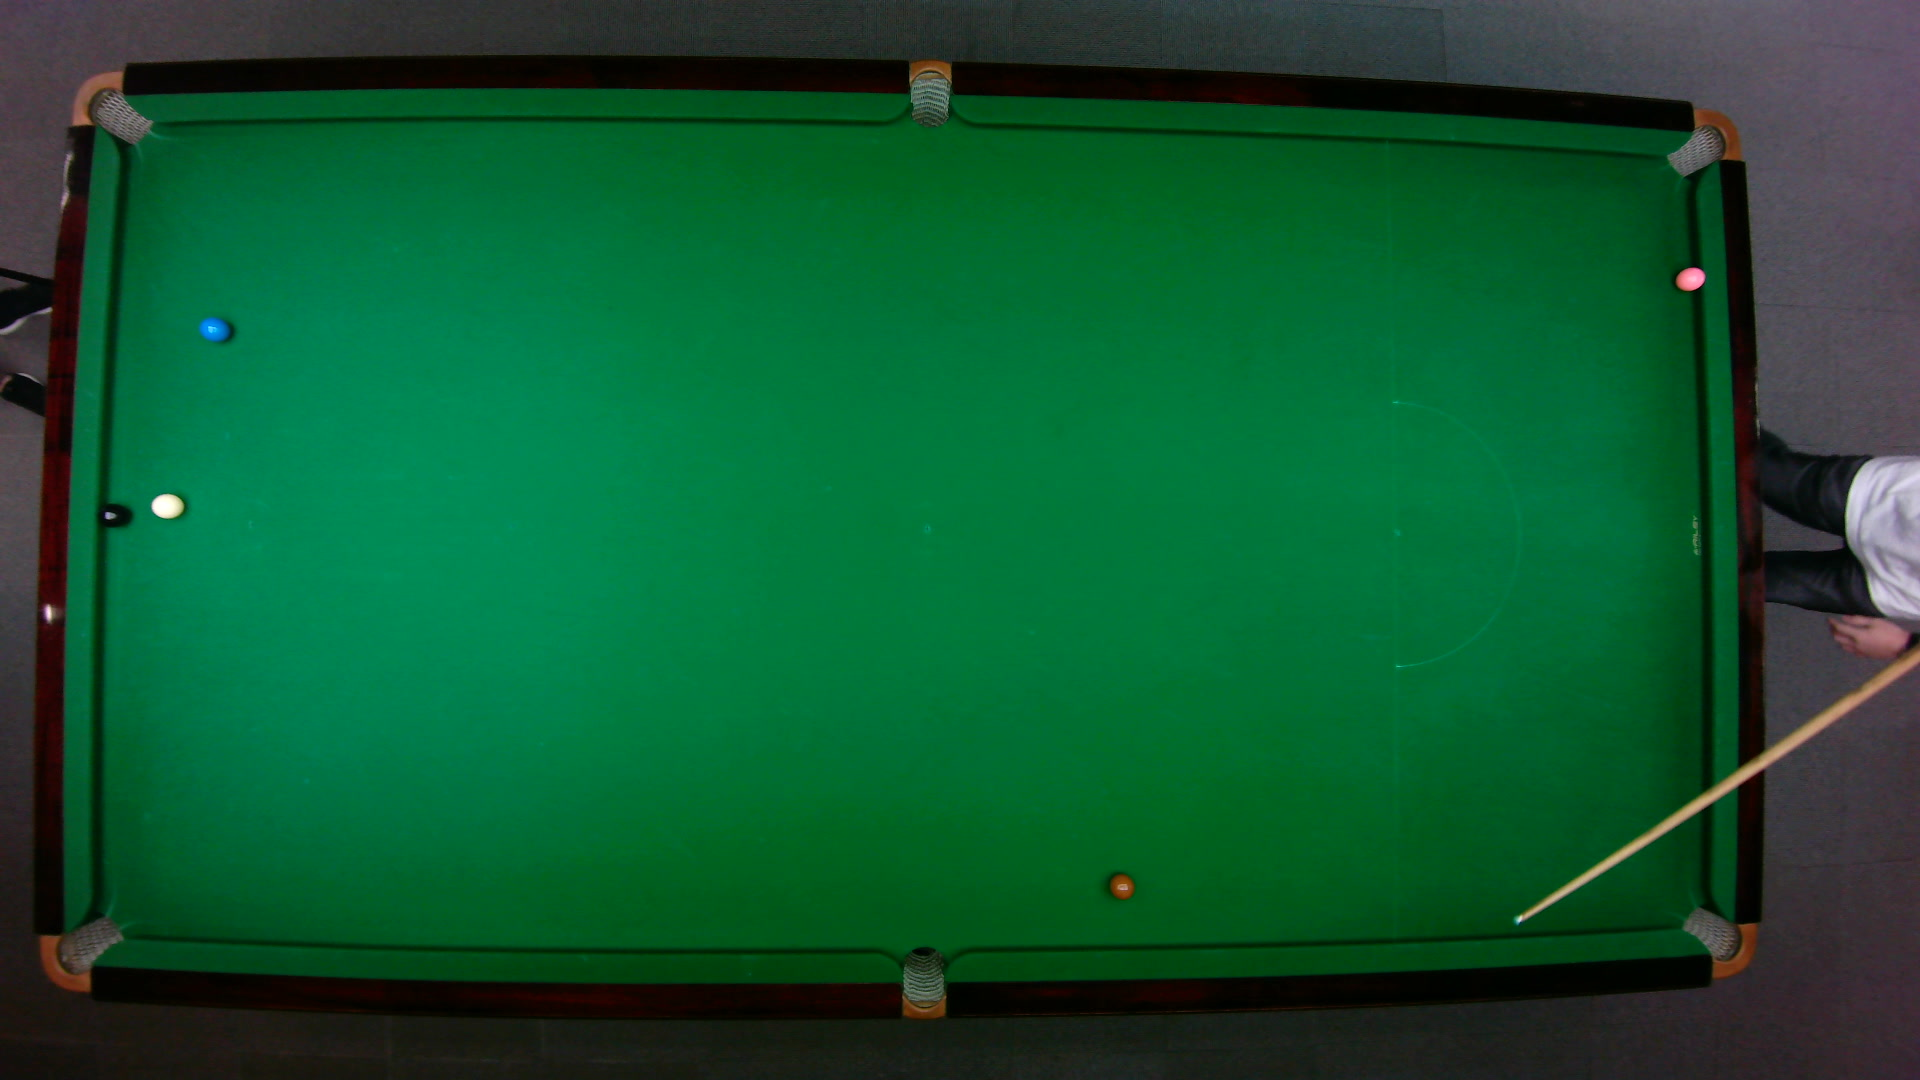bag: (37, 913, 124, 992), (67, 69, 152, 145), (1679, 905, 1756, 978), (1663, 107, 1741, 177), (901, 944, 944, 1021), (909, 57, 951, 128)
black: (96, 502, 127, 527)
blue: (196, 314, 231, 342)
brown: (1106, 872, 1135, 899)
cue: (1509, 654, 1912, 924)
pink: (1673, 264, 1706, 291)
white: (148, 491, 186, 520)
zone: (1391, 400, 1520, 667)
